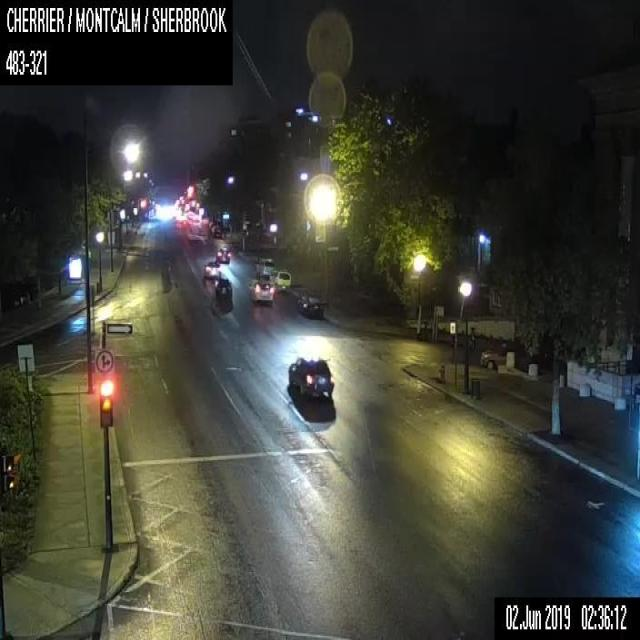vehicle: (288, 356, 332, 398), (480, 348, 530, 369), (203, 272, 232, 300), (246, 274, 274, 302), (296, 292, 325, 319), (269, 269, 290, 289), (253, 256, 274, 276), (203, 259, 220, 278), (215, 242, 230, 262)
